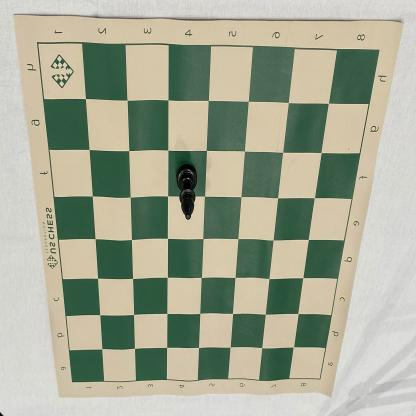black-bishop: (176, 163, 198, 221)
